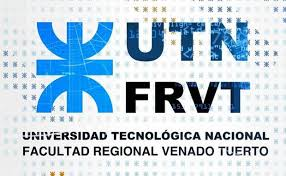utn: (33, 17, 114, 117)
